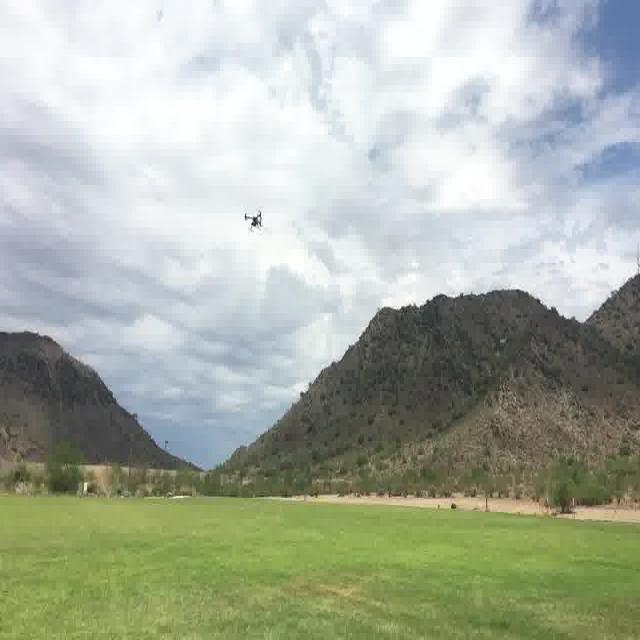drone: (242, 210, 265, 233)
